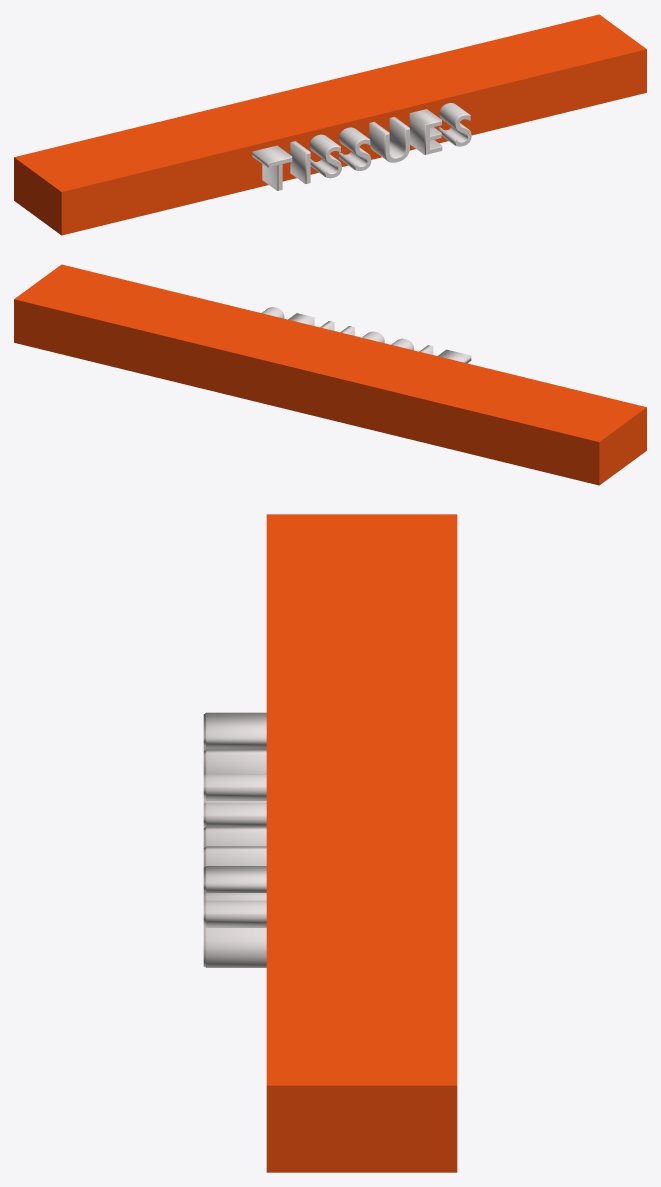
The model's file is tissues.gltf.
The picture shows the model from 3 angles, top to bottom: view 1: azimuth 30°, elevation 25°; view 2: azimuth 150°, elevation 25°; view 3: azimuth 270°, elevation 25°; orthographic projection. The views are drawn at different scales.
Parts seen in each view (by area): view 1: Cube.001, CEELS.001; view 2: Cube.001, CEELS.001; view 3: Cube.001, CEELS.001.
Part boxes in pixels (x1,y1,x2,y2): Cube.001: (14, 14, 646, 235); CEELS.001: (252, 103, 471, 190); Cube.001: (14, 264, 646, 485); CEELS.001: (261, 307, 471, 363); Cube.001: (266, 514, 457, 1172); CEELS.001: (203, 712, 266, 967).
Bounding box in the file's own units: 9.39 × 0.6658 × 1.76.
